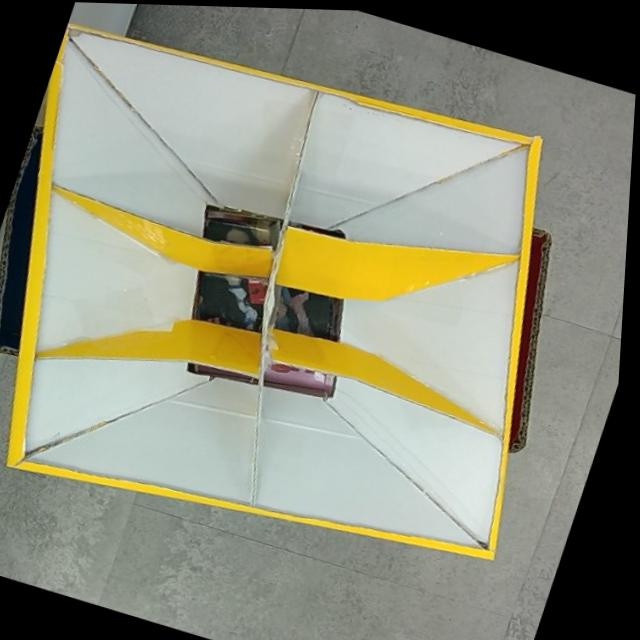box: (0, 0, 633, 608)
